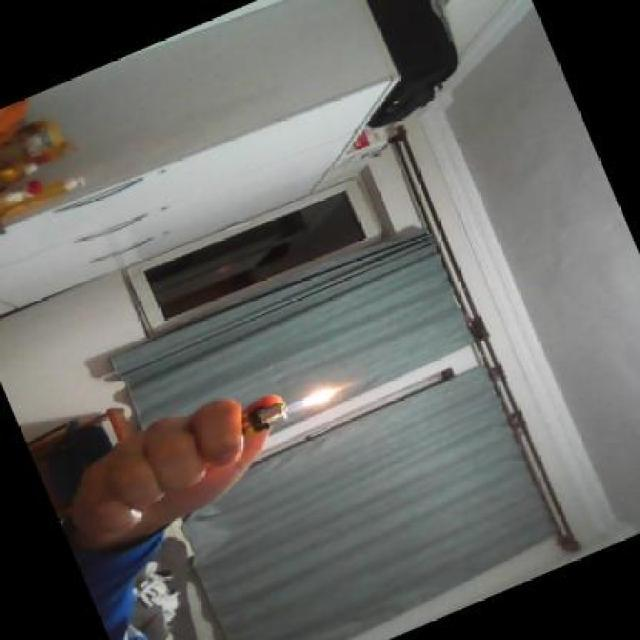Fire: (292, 371, 352, 434)
